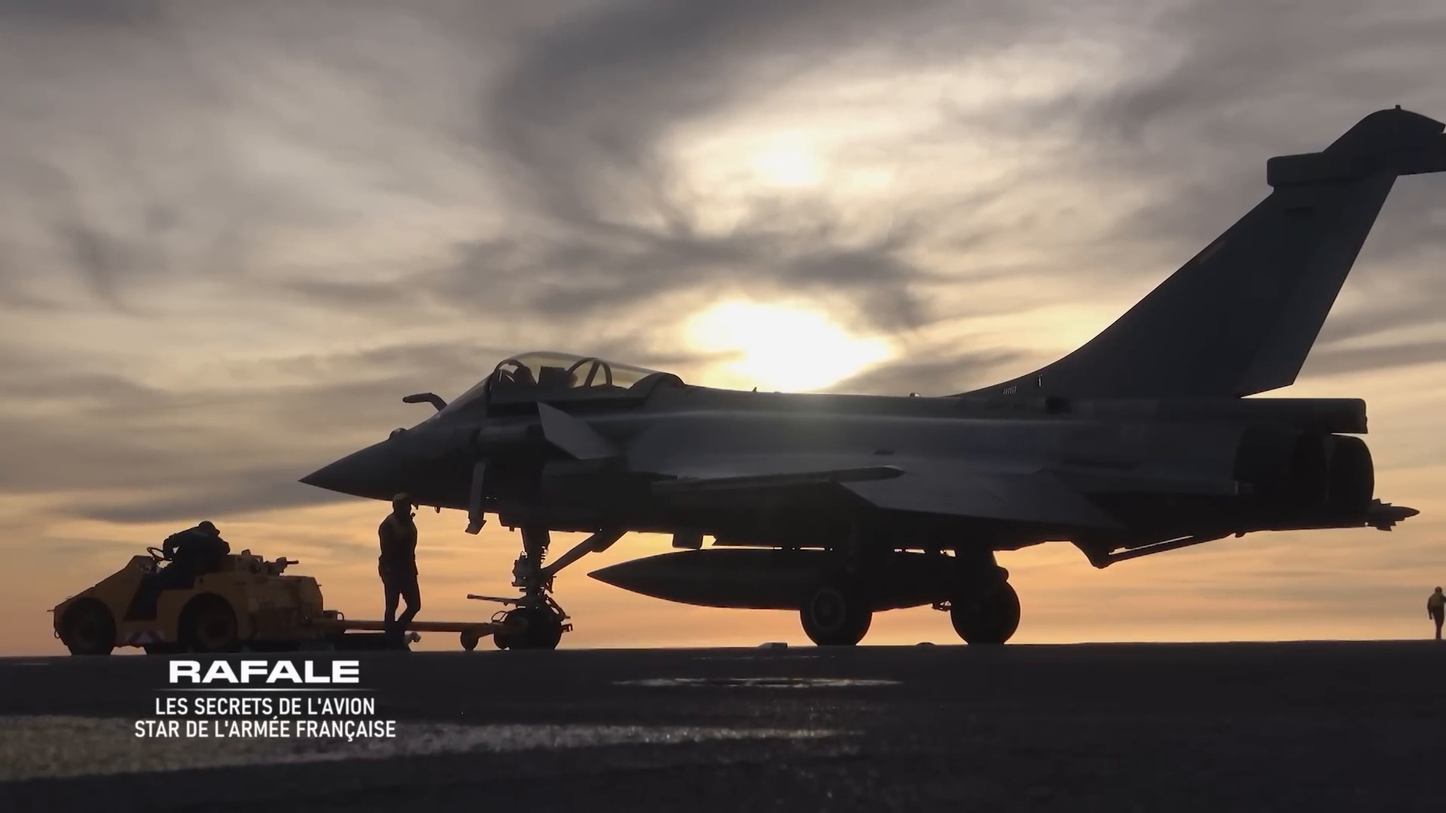Rafale: (282, 95, 1446, 656)
